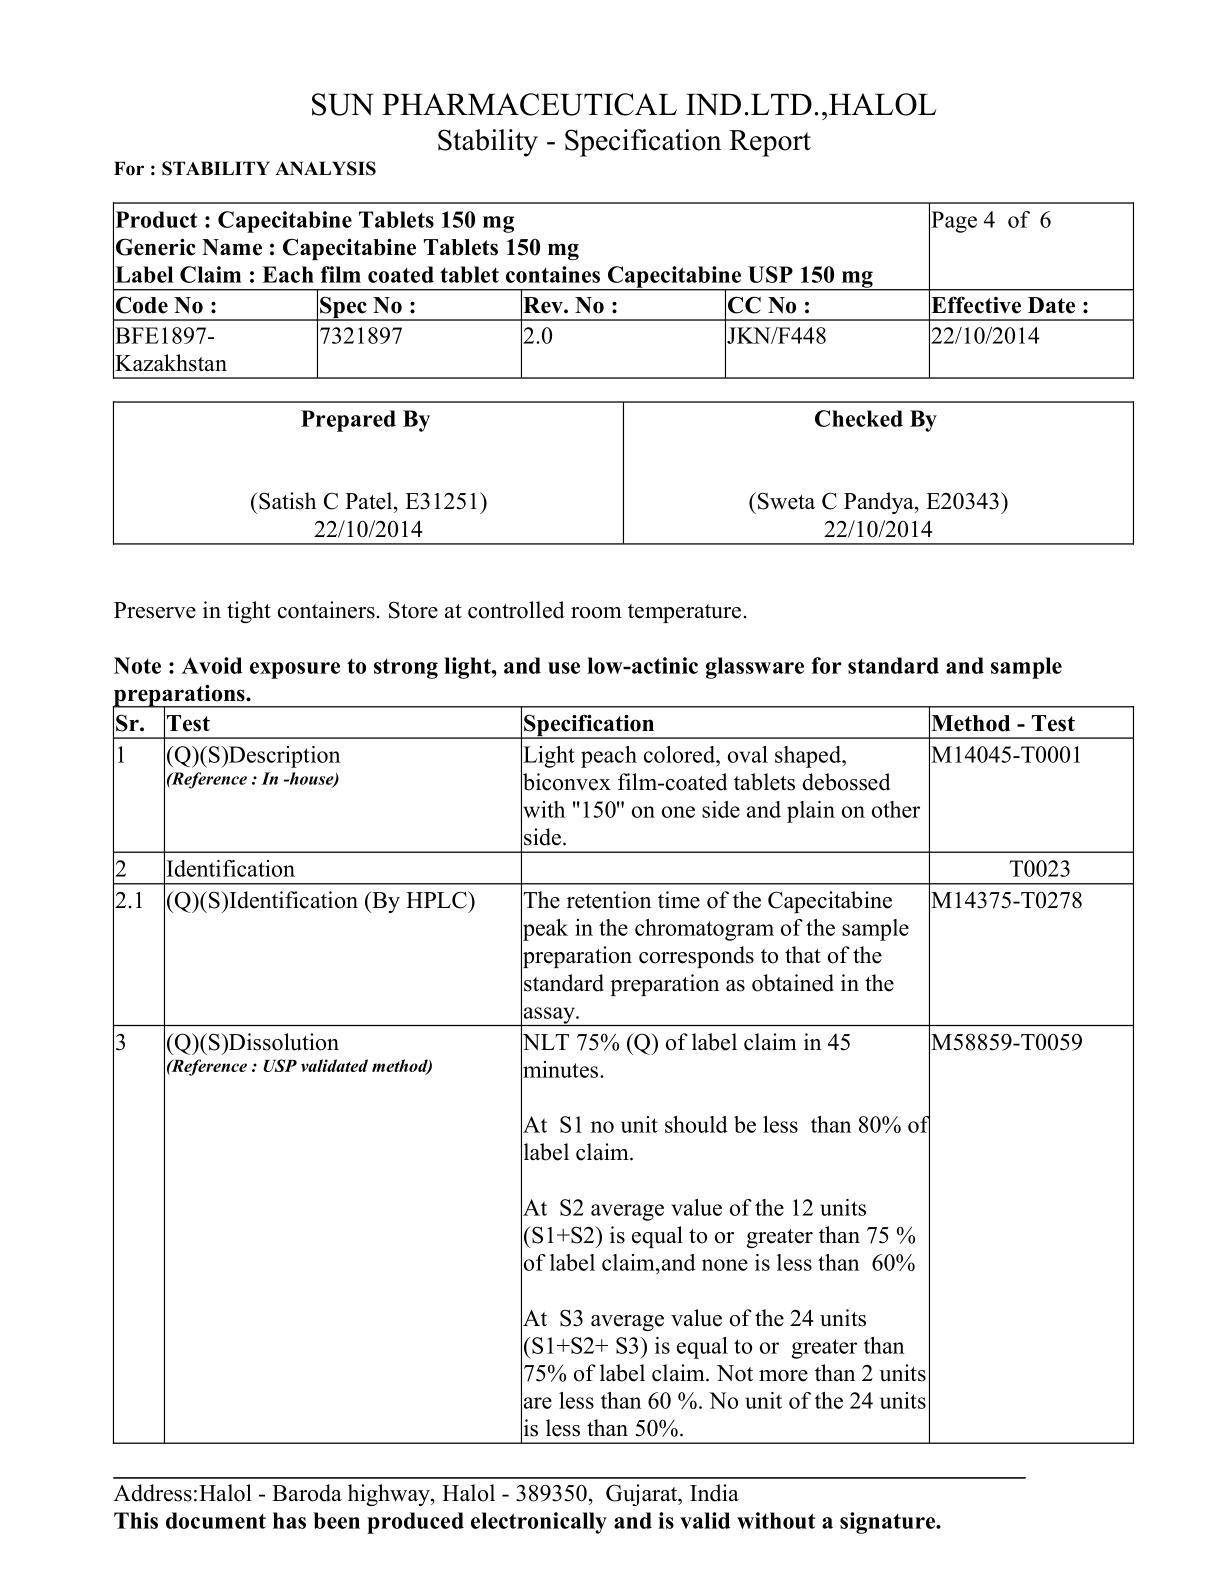full_lined: (112, 705, 1135, 1444), (112, 400, 1135, 546)
merged_cells: (112, 201, 1135, 381)
